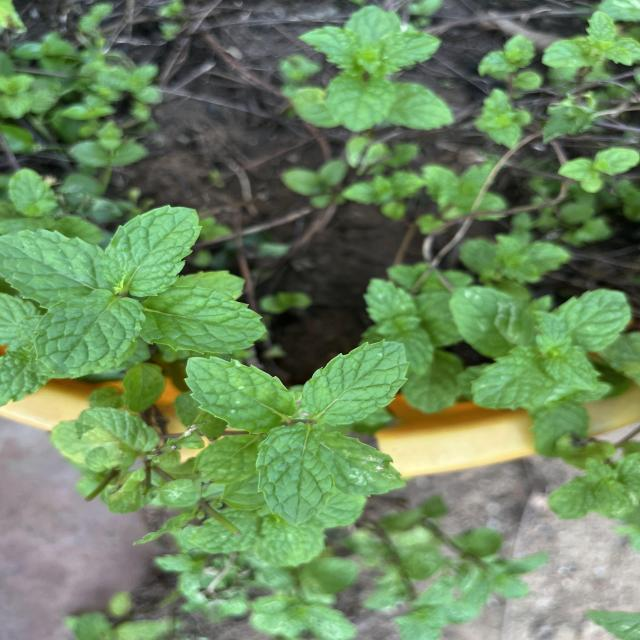Mentha spicata: (299, 338, 412, 428), (32, 292, 146, 381), (102, 202, 204, 298), (183, 356, 296, 436), (255, 423, 338, 528), (139, 288, 267, 356)
